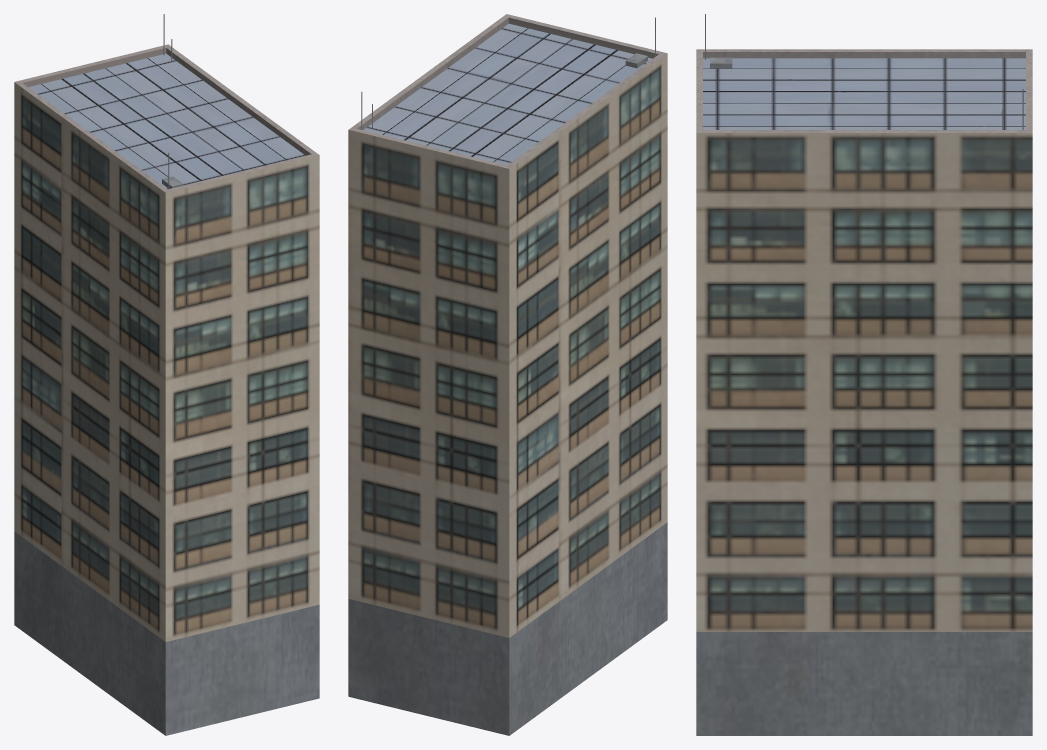
Rendered from Building 1.fbx.
3 views of the same model, side by side, from view 1: azimuth 30°, elevation 25°; view 2: azimuth 150°, elevation 25°; view 3: azimuth 270°, elevation 25° (orthographic). The views are drawn at different scales.
Parts seen in each view (by area): view 1: Box083; view 2: Box083; view 3: Box083.
Part boxes in pixels (x1=…): Box083: x1=14, y1=14, x2=319, y2=735; Box083: x1=348, y1=14, x2=667, y2=735; Box083: x1=696, y1=14, x2=1032, y2=735.
Size of the model in its own units: 848 by 3041 by 1444.
